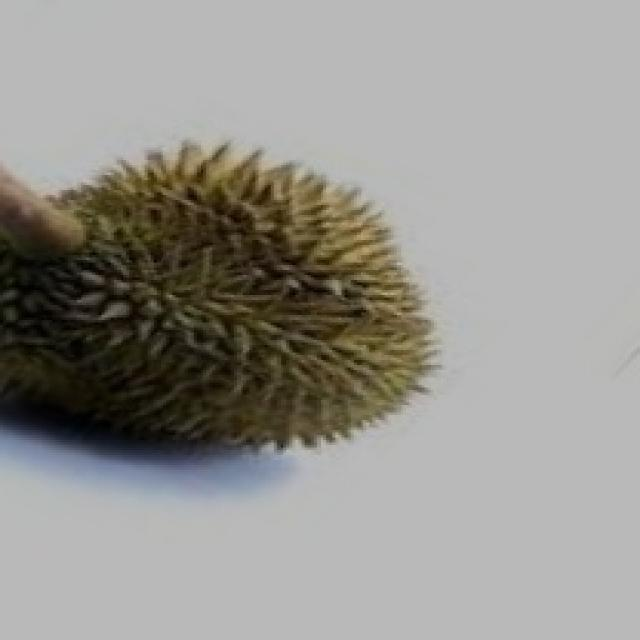fruit: (6, 98, 419, 522)
